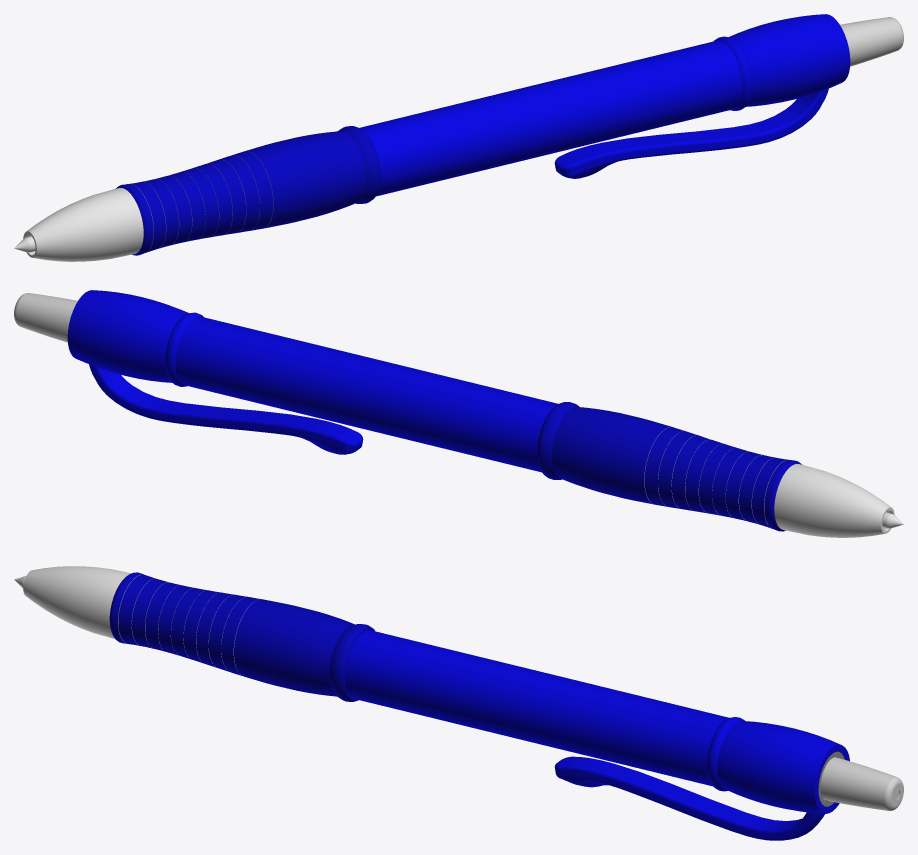
The model's file is pen_assembly.glb.
3 views of the same model, one above another, from view 1: azimuth 30°, elevation 25°; view 2: azimuth 150°, elevation 25°; view 3: azimuth 330°, elevation 25° (orthographic).
Parts seen in each view (by area): view 1: Rear Tube, Rubber, Clip, FrontTube, Click Cap; view 2: Rear Tube, Rubber, Clip, FrontTube, Click Cap; view 3: Rear Tube, Rubber, Clip, FrontTube, Click Cap.
Part boxes in pixels (x1,y1,x2,y2): Rear Tube: (359, 40, 742, 196); Rubber: (116, 126, 380, 255); Clip: (554, 14, 850, 178); FrontTube: (23, 188, 143, 261); Click Cap: (840, 17, 903, 66); Rear Tube: (175, 316, 558, 472); Rubber: (537, 402, 801, 531); Clip: (67, 290, 363, 454); FrontTube: (774, 464, 894, 537); Click Cap: (14, 293, 77, 342); Rear Tube: (344, 630, 729, 786); Rubber: (109, 572, 374, 701); Clip: (554, 717, 849, 840); FrontTube: (23, 566, 130, 638); Click Cap: (820, 757, 903, 810).
Bounding box in the file's own units: 0.1428 × 0.0172 × 0.0115.
